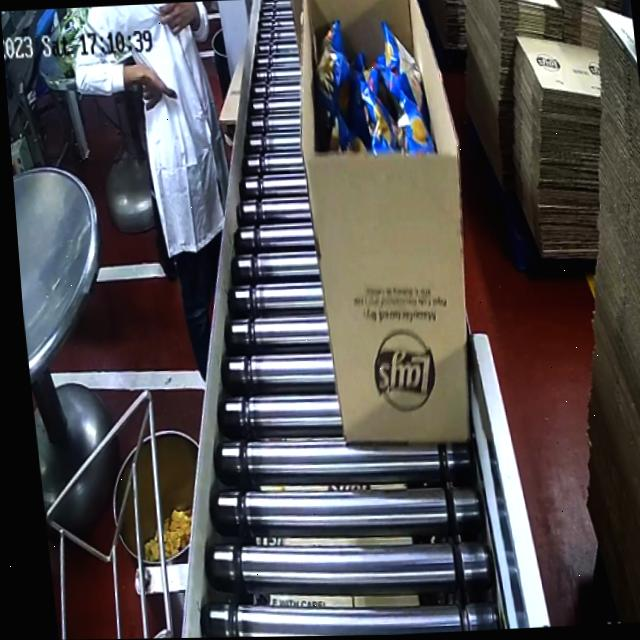PAPRIKA: (309, 17, 431, 149)
